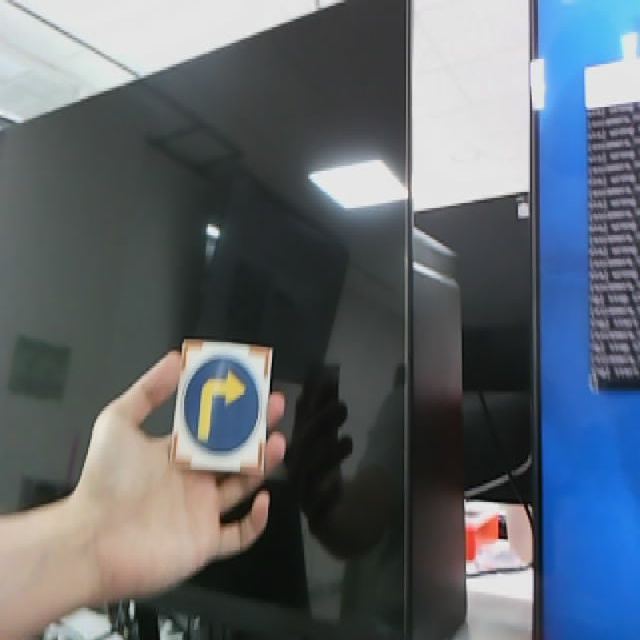right: (166, 338, 272, 480)
